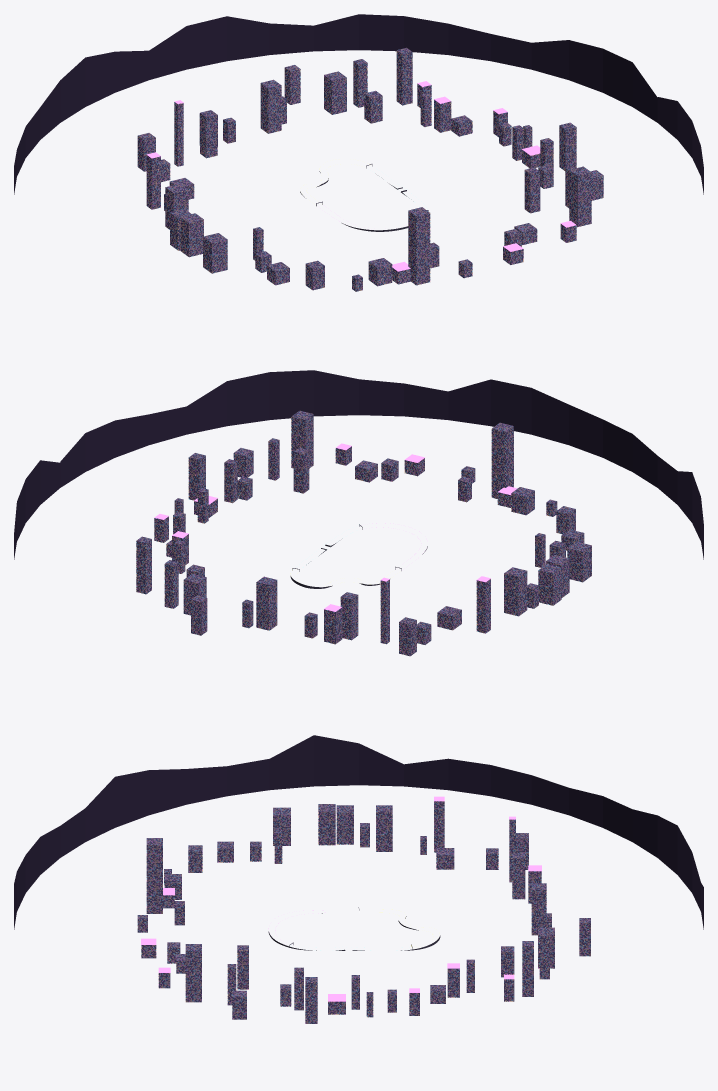
Rendered from scenery.glb.
3 views of the same model, one above another, from view 1: azimuth 30°, elevation 25°; view 2: azimuth 150°, elevation 25°; view 3: azimuth 270°, elevation 25° (orthographic).
Parts seen in each view (by area): view 1: scenery; view 2: scenery; view 3: scenery.
Boxes of the visible parts, left/top/right/bottom form: scenery: left=14, top=14, right=703, bottom=291; scenery: left=14, top=370, right=703, bottom=656; scenery: left=14, top=735, right=703, bottom=1023.
Bounding box in the file's own units: 1520 × 168 × 1520.
9 materials, 1 textured.
